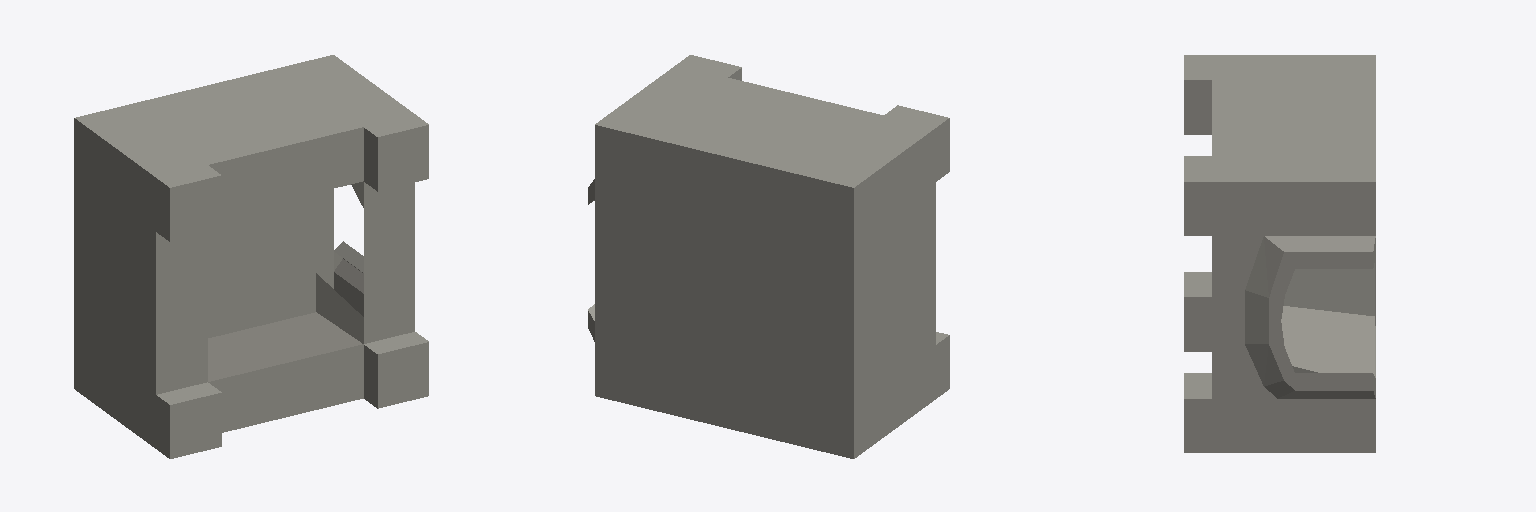
The model's file is fortress-low-tex.obj.
3 renders of one model, left to right at view 1: azimuth 30°, elevation 25°; view 2: azimuth 150°, elevation 25°; view 3: azimuth 270°, elevation 25°, orthographic.
Visible parts, largest first — view 1: Vertex_Object; view 2: Vertex_Object; view 3: Vertex_Object.
Boxes of the visible parts, box(x1,y1,x2,y2) form: Vertex_Object: box(74, 55, 428, 458); Vertex_Object: box(588, 55, 949, 458); Vertex_Object: box(1184, 55, 1375, 452).
Bounding box in the file's own units: 124 × 120 × 76.78.